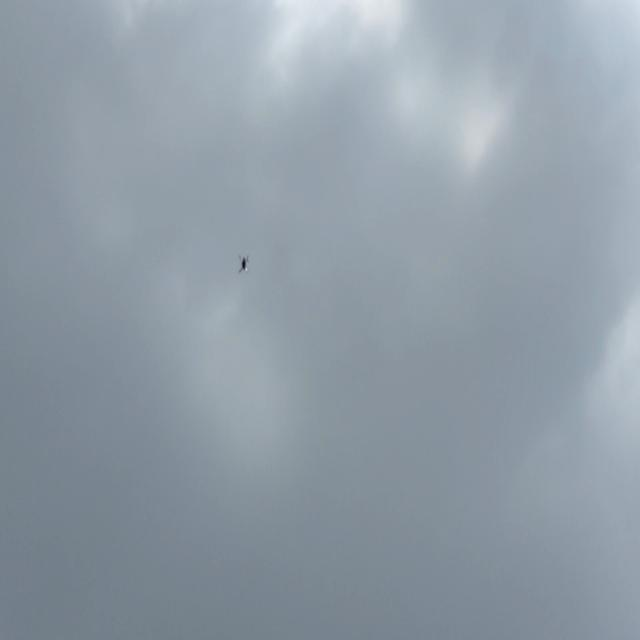drone: (233, 252, 254, 278)
